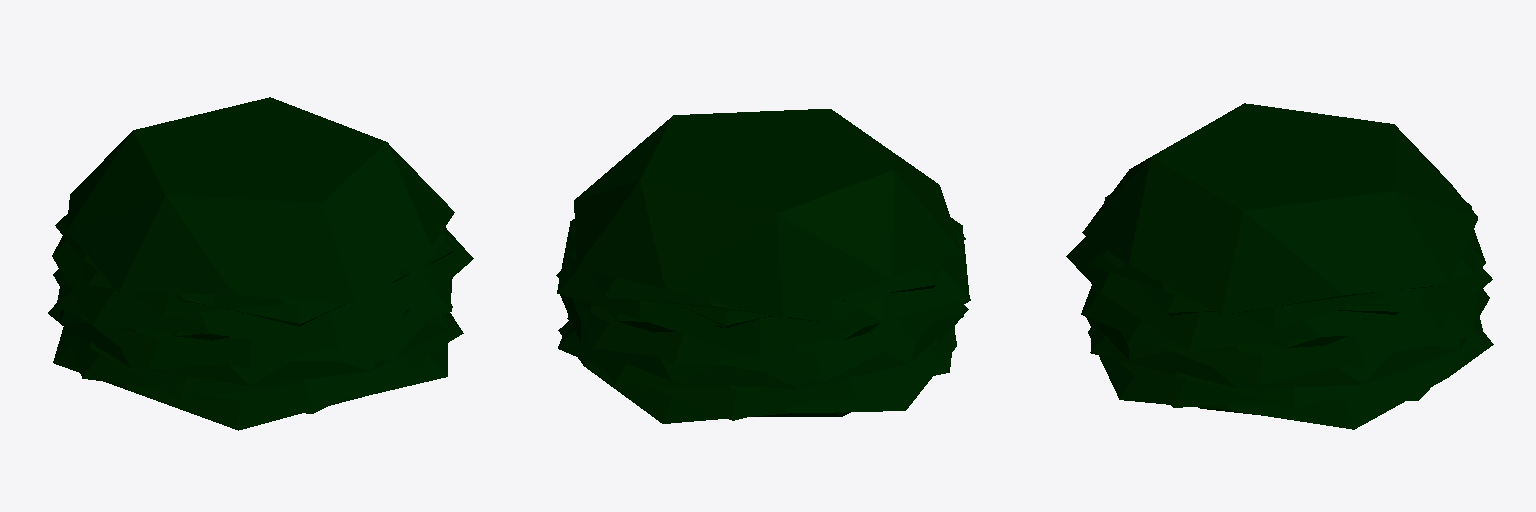
Rendered from BushModel.obj.
3 views of the same model, side by side, from view 1: azimuth 30°, elevation 25°; view 2: azimuth 150°, elevation 25°; view 3: azimuth 270°, elevation 25° (orthographic).
Visible parts, largest first — view 1: Icosphere; view 2: Icosphere; view 3: Icosphere.
Part boxes in pixels (x1,y1,x2,y2): Icosphere: (48, 97, 473, 430); Icosphere: (556, 109, 970, 423); Icosphere: (1066, 103, 1493, 429).
Bounding box in the file's own units: 2.23 × 1.17 × 2.26.